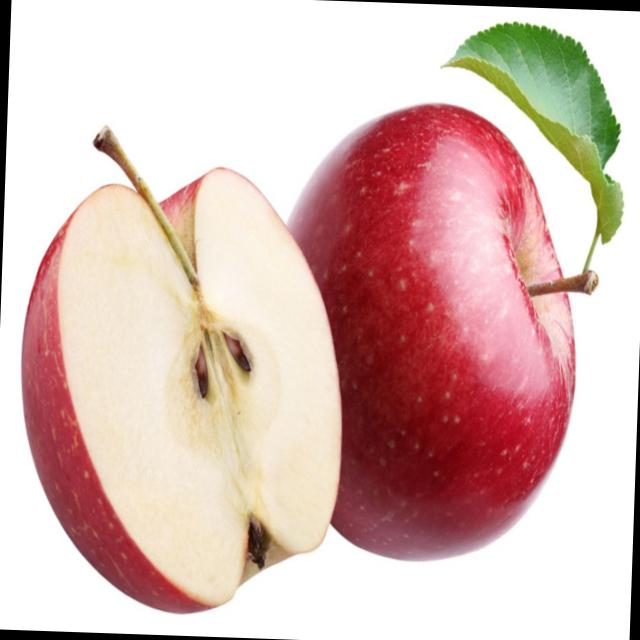apple: (258, 79, 604, 596)
